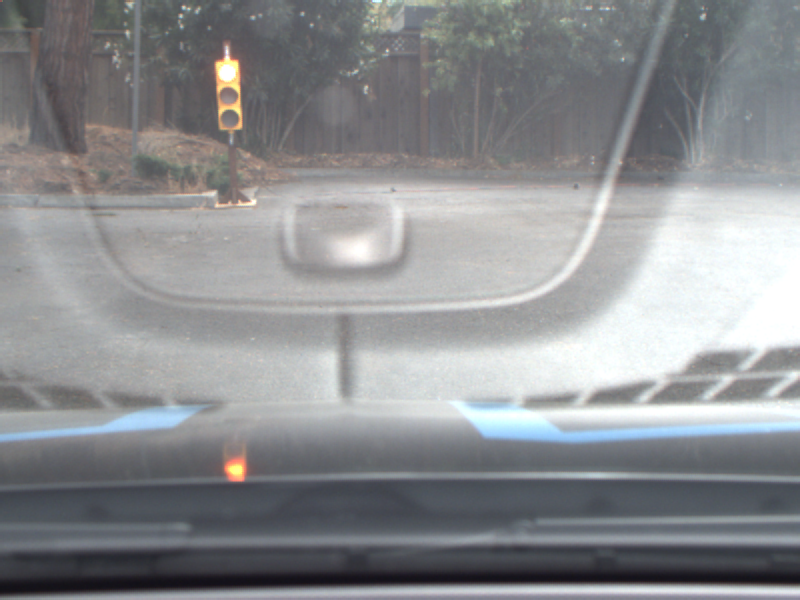red: (214, 60, 246, 131)
